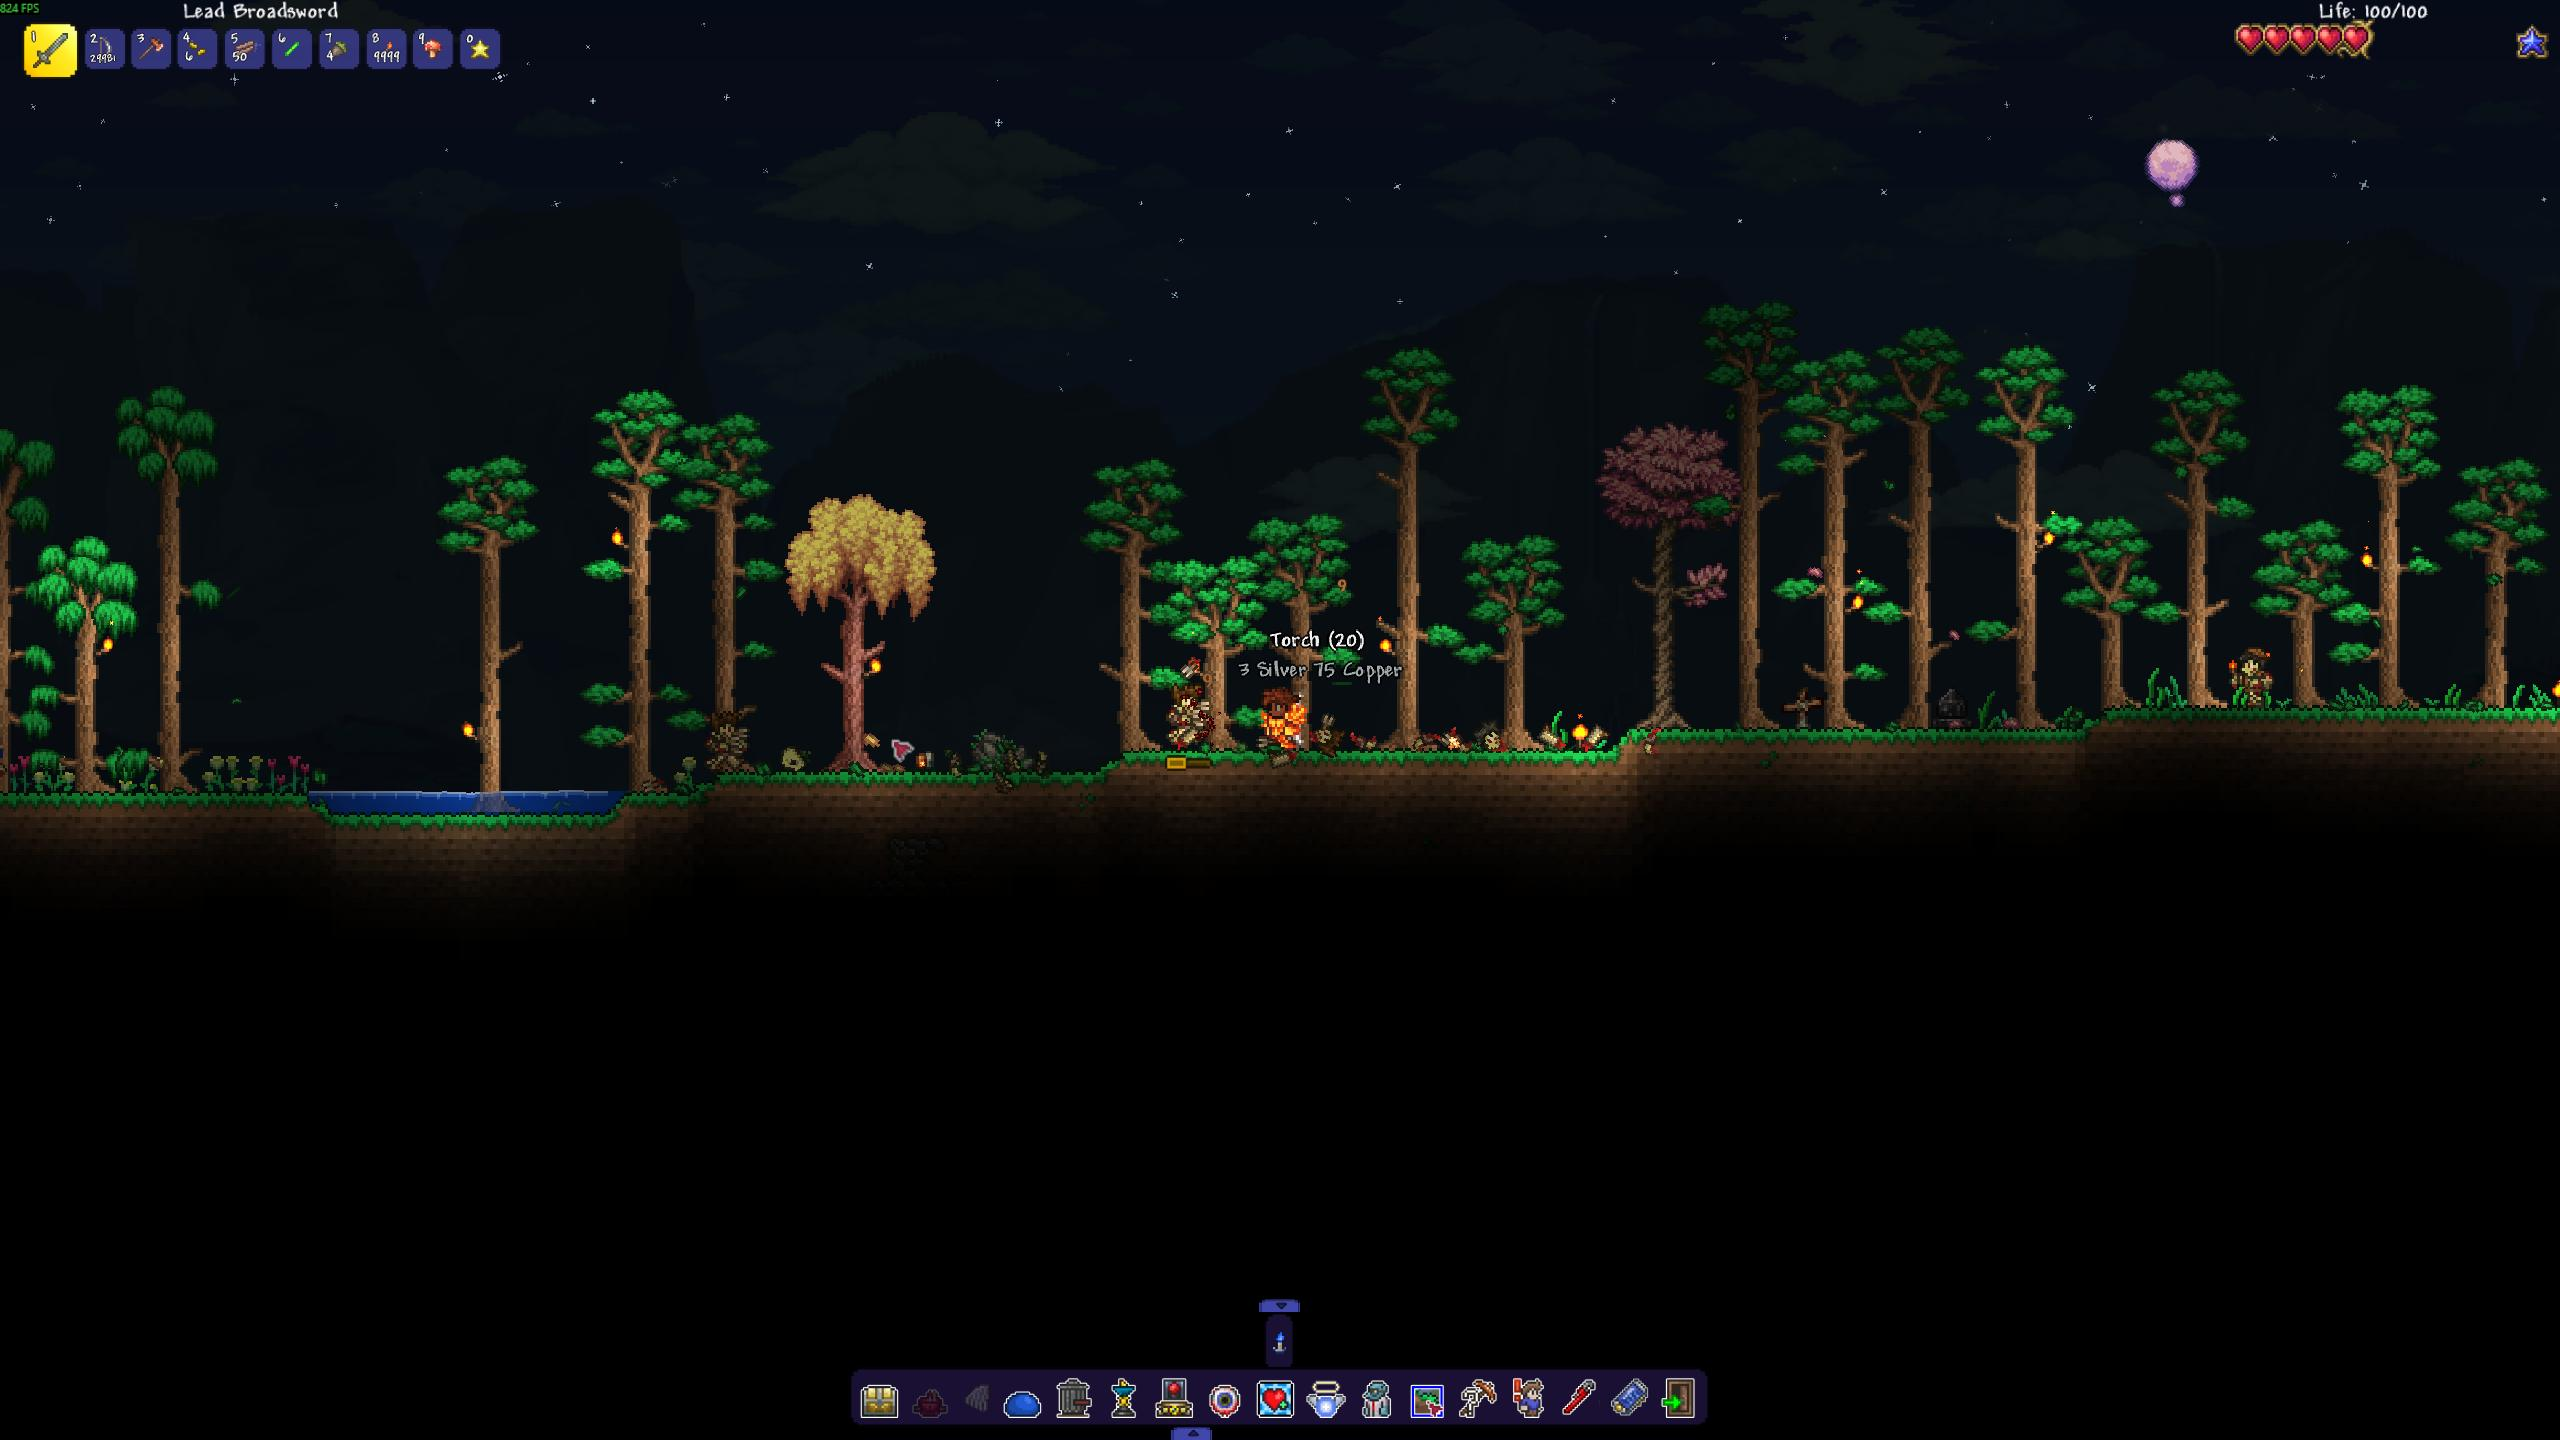Zombie: (700, 703, 751, 768), (2224, 638, 2272, 703), (1166, 687, 1211, 745)
